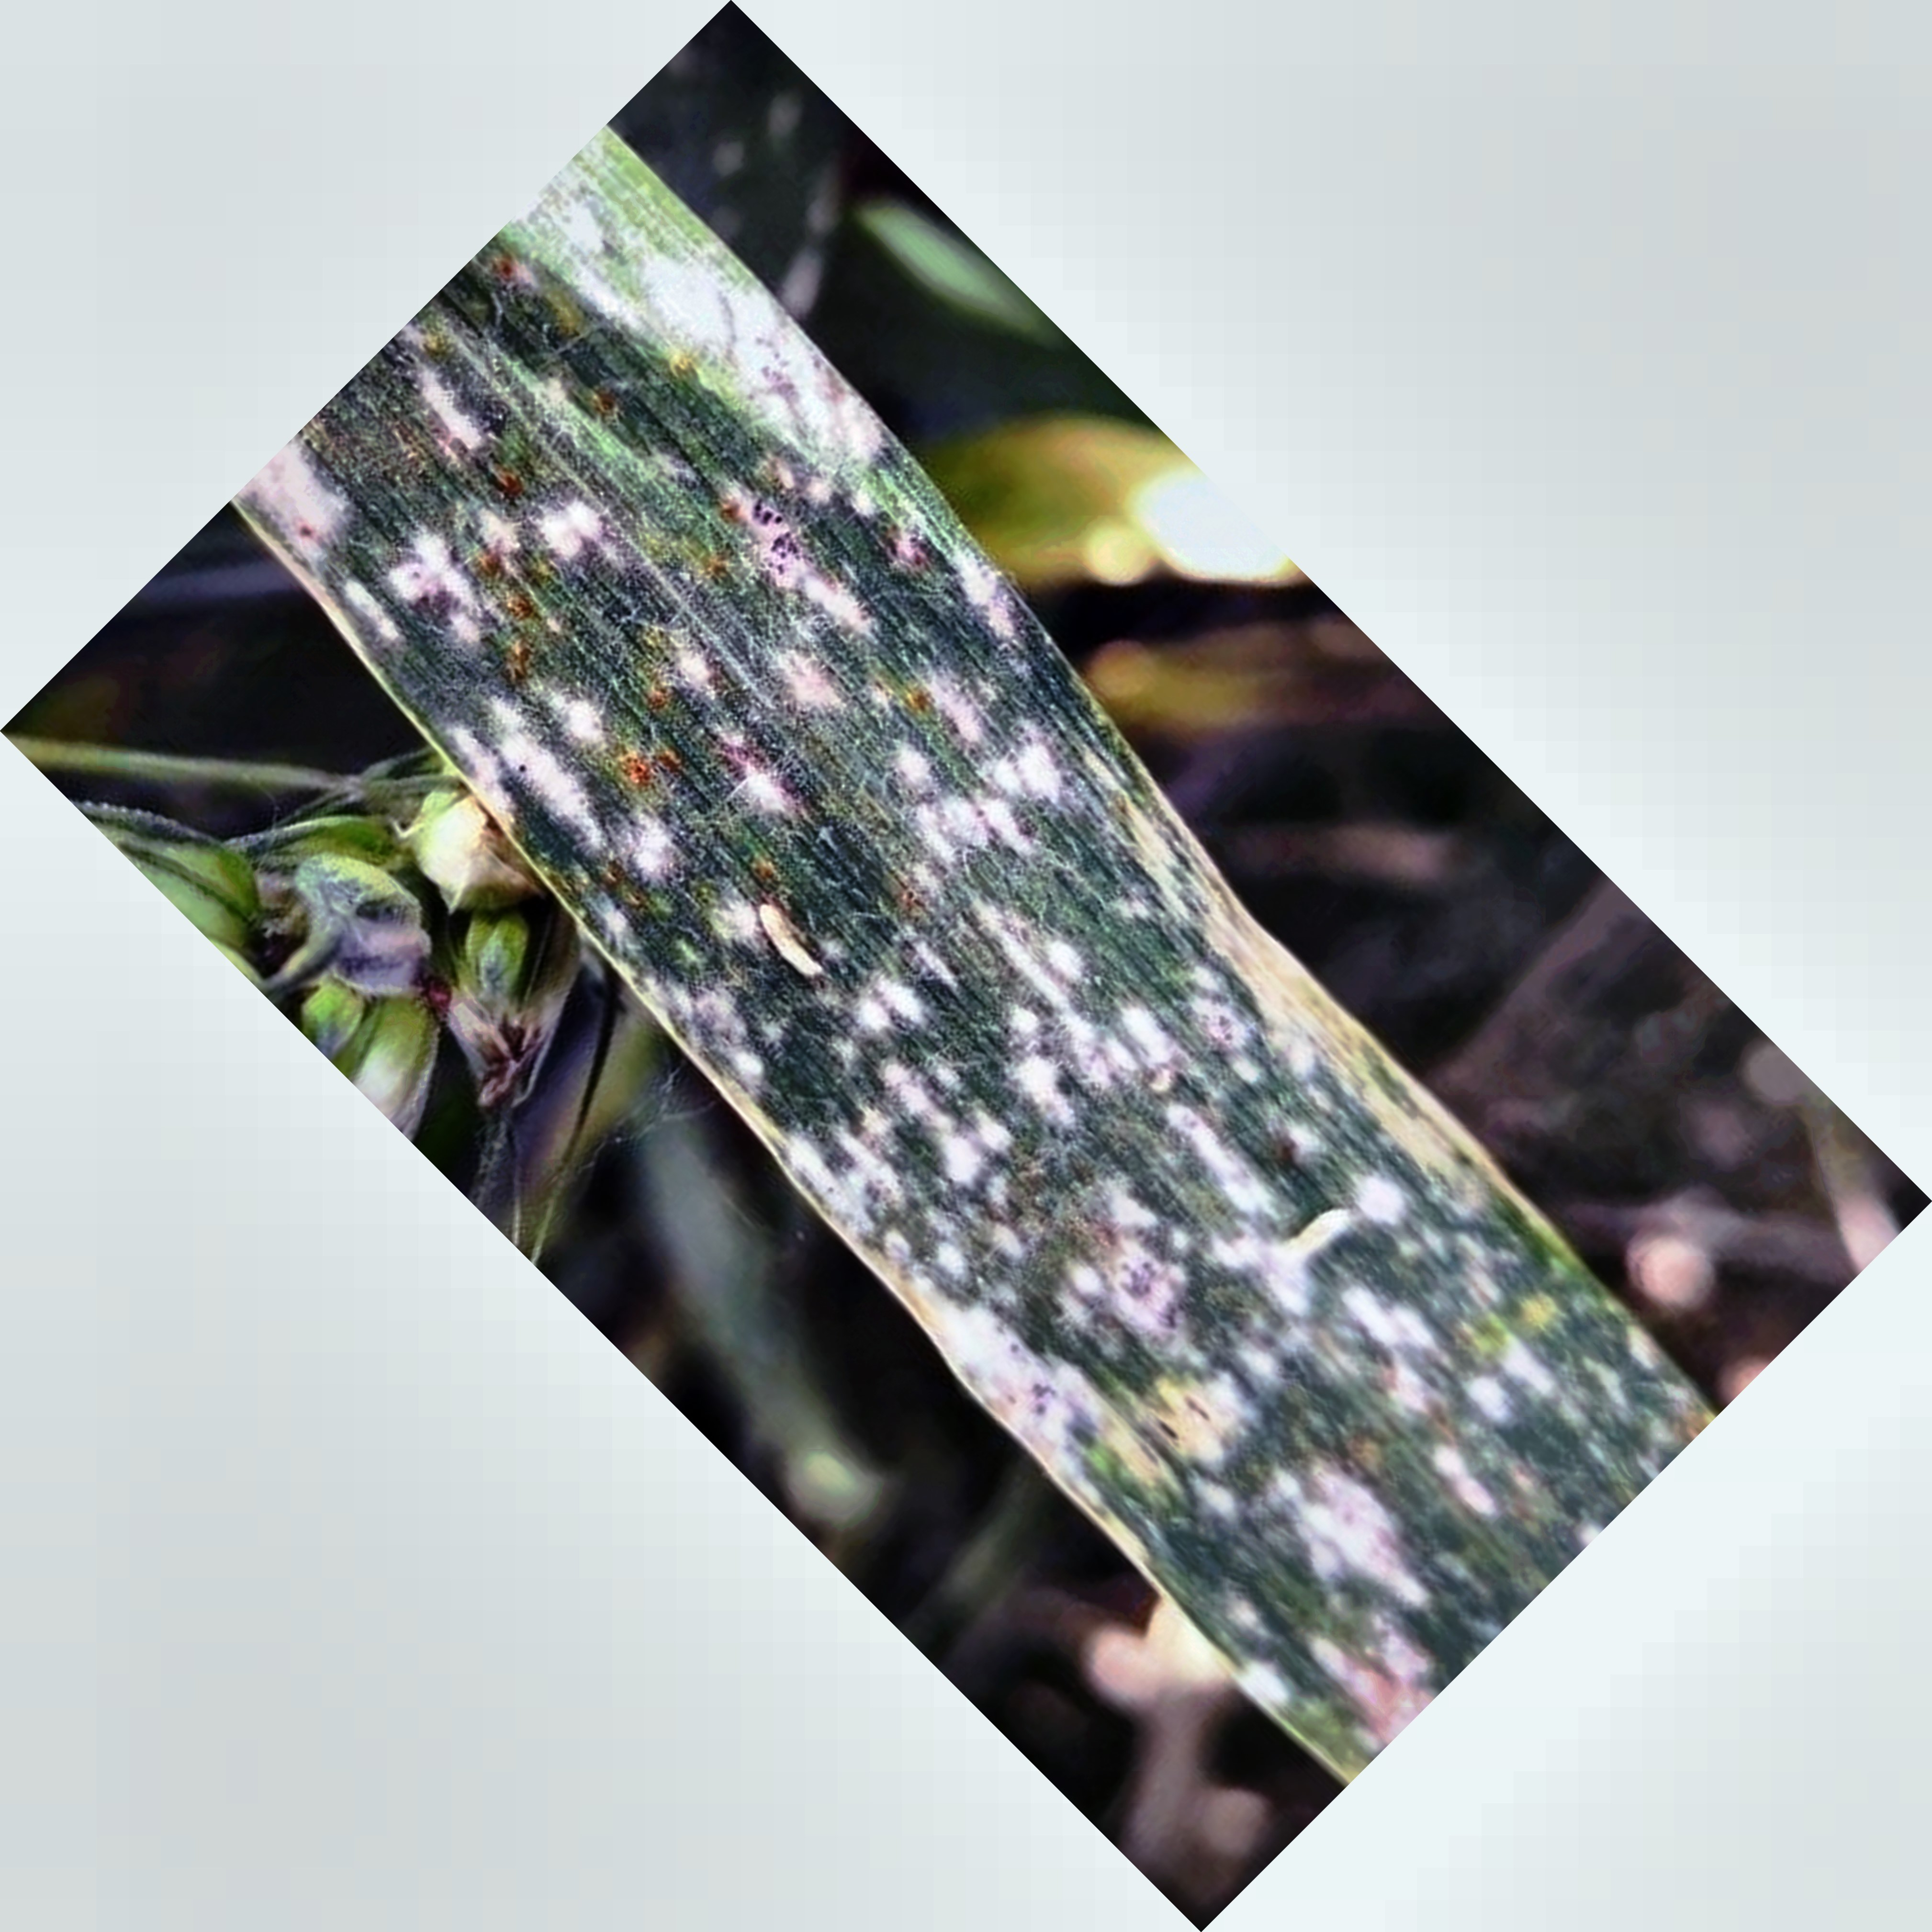Powdery Mildew: (352, 377, 1387, 1477)
